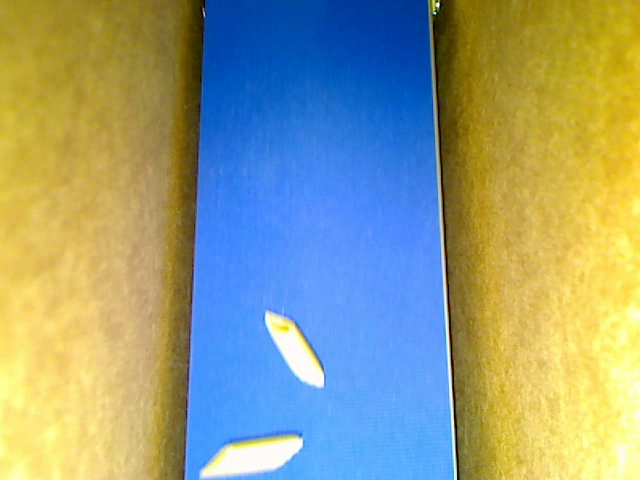penne: (264, 309, 324, 386), (198, 433, 303, 477)
